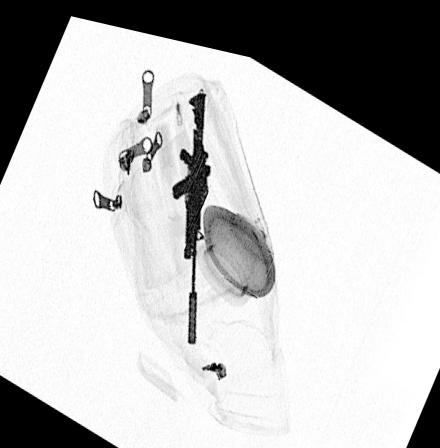Gun: (170, 82, 211, 335)
